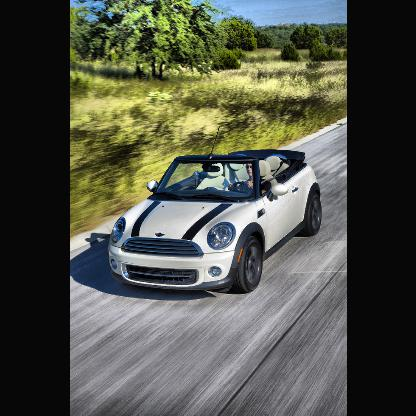MINI Cooper Roadster Convertible 2012: (105, 122, 323, 297)
